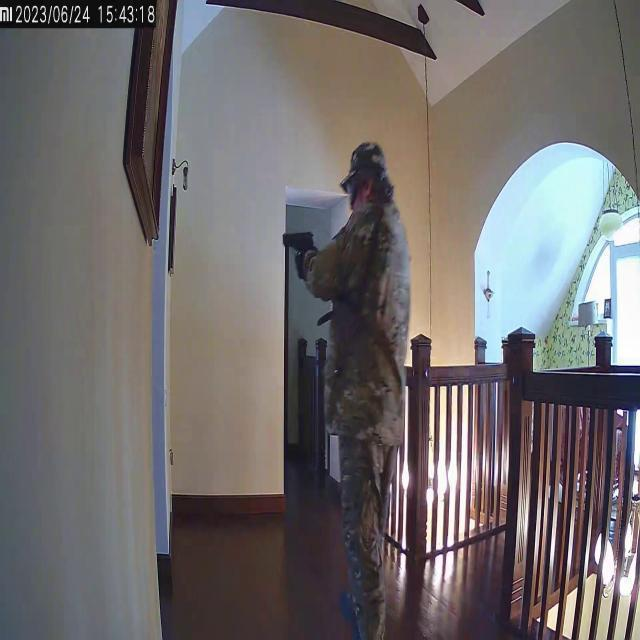pistol: (282, 228, 317, 258)
